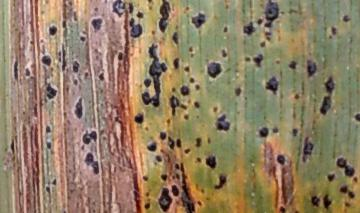tarspot: (141, 42, 167, 108), (176, 159, 197, 213), (319, 75, 335, 115), (157, 1, 173, 34), (262, 1, 280, 29), (334, 155, 355, 178), (56, 41, 70, 74), (83, 152, 102, 176), (168, 94, 187, 118), (157, 187, 173, 213), (127, 16, 144, 39), (301, 135, 314, 164), (188, 11, 207, 29), (206, 60, 223, 80), (43, 82, 60, 102), (215, 113, 231, 133), (265, 76, 280, 96), (305, 57, 318, 80), (81, 129, 99, 145), (72, 96, 84, 119), (111, 1, 127, 18), (212, 174, 227, 190), (241, 20, 256, 36), (90, 16, 104, 33), (204, 155, 218, 169), (40, 53, 53, 68), (252, 53, 265, 68), (179, 83, 192, 98), (11, 59, 20, 80), (322, 193, 332, 211), (165, 135, 176, 151), (275, 153, 288, 166), (310, 194, 322, 208), (170, 31, 180, 47), (133, 111, 144, 125), (47, 24, 58, 38), (145, 140, 157, 152), (287, 59, 298, 72), (169, 184, 179, 198), (258, 126, 269, 138), (23, 66, 33, 79), (287, 7, 300, 17), (71, 60, 80, 74), (326, 172, 336, 184), (135, 9, 145, 21), (142, 77, 152, 89), (175, 136, 184, 149), (172, 56, 180, 70), (181, 64, 192, 74), (193, 136, 202, 148), (158, 130, 167, 142), (115, 49, 124, 61), (71, 9, 78, 24), (97, 70, 105, 83), (159, 173, 169, 183), (44, 124, 53, 135), (127, 1, 134, 15), (330, 24, 338, 36), (211, 104, 219, 116), (342, 14, 351, 24), (339, 185, 349, 194), (290, 127, 299, 137), (44, 140, 53, 150), (10, 137, 16, 152), (233, 86, 241, 97), (220, 48, 228, 59), (353, 112, 360, 124), (60, 18, 67, 30), (182, 113, 191, 122), (293, 93, 301, 103), (259, 39, 267, 49), (44, 185, 52, 195), (173, 172, 181, 182), (155, 153, 162, 164), (271, 126, 279, 135), (194, 156, 202, 165), (182, 147, 191, 155), (243, 55, 252, 63), (188, 75, 196, 84), (144, 202, 152, 211), (140, 174, 149, 182), (195, 199, 203, 208), (169, 86, 178, 94), (186, 45, 195, 53), (142, 125, 151, 133), (173, 161, 180, 171), (205, 135, 212, 145), (223, 3, 233, 10), (165, 116, 171, 127), (343, 200, 351, 208), (347, 190, 355, 198), (278, 205, 286, 213), (188, 52, 196, 60), (183, 4, 191, 12), (352, 176, 359, 185), (78, 35, 87, 42), (256, 16, 263, 25), (193, 100, 200, 109), (143, 191, 152, 198), (150, 28, 157, 37), (36, 37, 45, 44), (222, 24, 228, 34), (263, 30, 273, 36), (170, 173, 176, 183), (194, 83, 201, 91), (93, 6, 100, 14), (274, 58, 281, 66), (199, 186, 205, 195), (194, 112, 200, 121), (83, 70, 89, 78), (147, 4, 153, 11), (279, 9, 285, 16), (264, 36, 272, 41), (52, 177, 56, 187), (327, 35, 333, 41), (28, 39, 34, 44), (146, 1, 152, 4), (293, 210, 298, 213)
